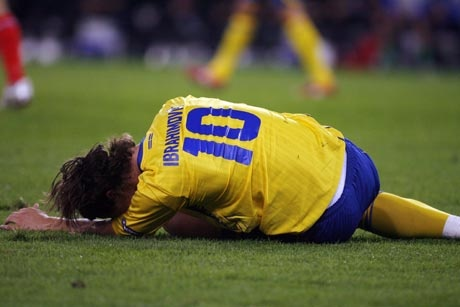falling: (12, 85, 453, 252)
